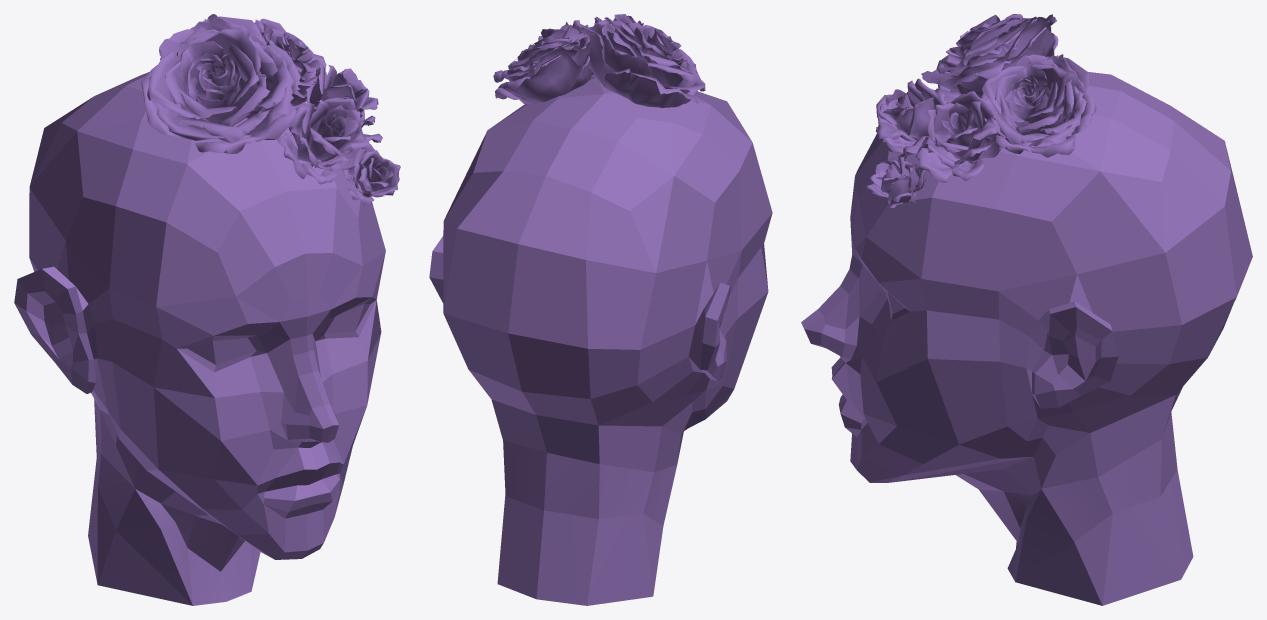
The model's file is website_avatar_lanc_fallback.gltf.
3 renders of one model, left to right at view 1: azimuth 30°, elevation 25°; view 2: azimuth 150°, elevation 25°; view 3: azimuth 270°, elevation 25°, orthographic. The views are drawn at different scales.
Visible parts, largest first — view 1: low_poly_head.001, BLAD24, BLAD17, BLAD18, BLAD19, BLAD16, BLAD10, BLAD9, BLAD14, BLAD8, BLAD22, BLAD13 (+9 smaller); view 2: low_poly_head.001, BLAD21.001, BLAD23, BLAD19, BLAD21, BLAD17, BLAD19.001; view 3: low_poly_head.001, BLAD21, BLAD20, BLAD24.001, BLAD21.001, BLAD19, f_petal_25.001, f_petal_21_2, BLAD14, BLAD18.001, BLAD19.001, BLAD17.001.
Boxes of the visible parts, x1,y1,x2,y2 form: low_poly_head.001: (14,72,385,605); BLAD24: (195,105,296,154); BLAD17: (147,52,210,122); BLAD18: (175,107,271,142); BLAD19: (159,14,265,60); BLAD16: (247,42,291,118); BLAD10: (204,30,260,96); BLAD9: (225,44,258,117); BLAD14: (177,28,277,93); BLAD8: (179,41,223,99); BLAD22: (157,104,224,140); BLAD13: (219,71,269,126); low_poly_head.001: (429,75,772,605); BLAD21.001: (498,52,581,102); BLAD23: (604,67,698,108); BLAD19: (589,23,651,76); BLAD21: (577,24,616,87); BLAD17: (636,62,698,86); BLAD19.001: (527,41,590,81); low_poly_head.001: (801,72,1252,605); BLAD21: (953,25,1055,97); BLAD20: (921,56,1003,93); BLAD24.001: (994,134,1075,157); BLAD21.001: (1063,57,1097,138); BLAD19: (1001,14,1056,62); f_petal_25.001: (915,148,963,182); f_petal_21_2: (907,97,934,139); BLAD14: (963,16,1036,65); BLAD18.001: (992,109,1052,144); BLAD19.001: (1016,54,1083,115); BLAD17.001: (981,66,1023,127).
Size of what is drawn, in the model's own units: 99.9 by 177 by 131.
